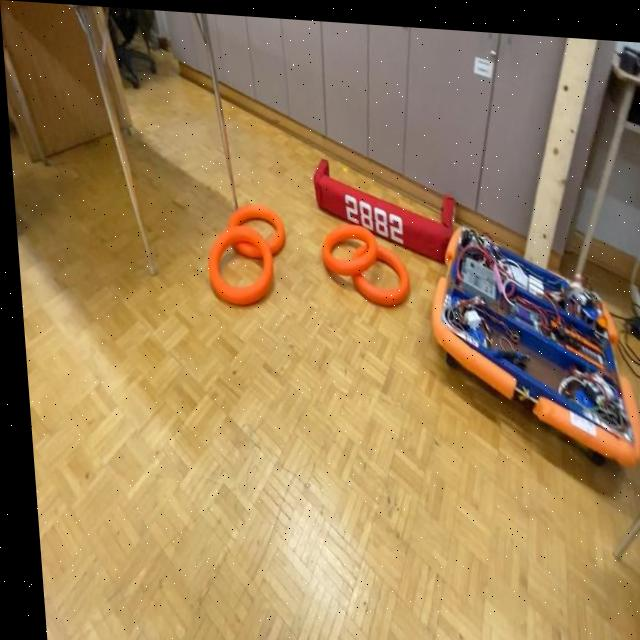note: (200, 220, 272, 304), (344, 237, 408, 308), (222, 199, 282, 257), (315, 217, 373, 272)
robot: (421, 216, 640, 462)
